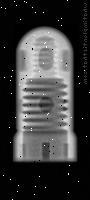Camlog: (12, 24, 78, 162)
